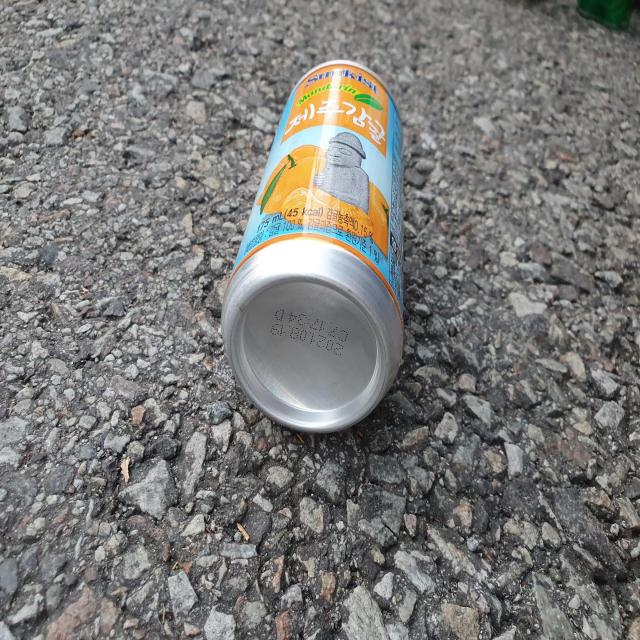can: (222, 60, 404, 432)
